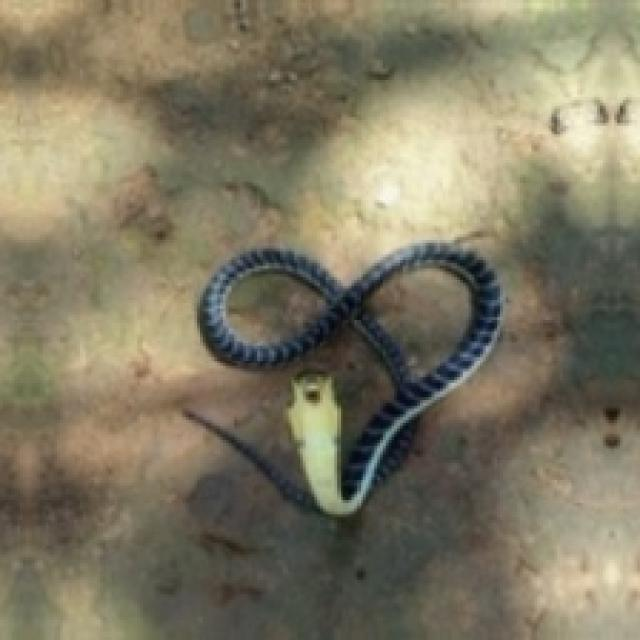king cobra: (186, 243, 500, 514), (360, 263, 471, 374), (226, 269, 329, 343)
